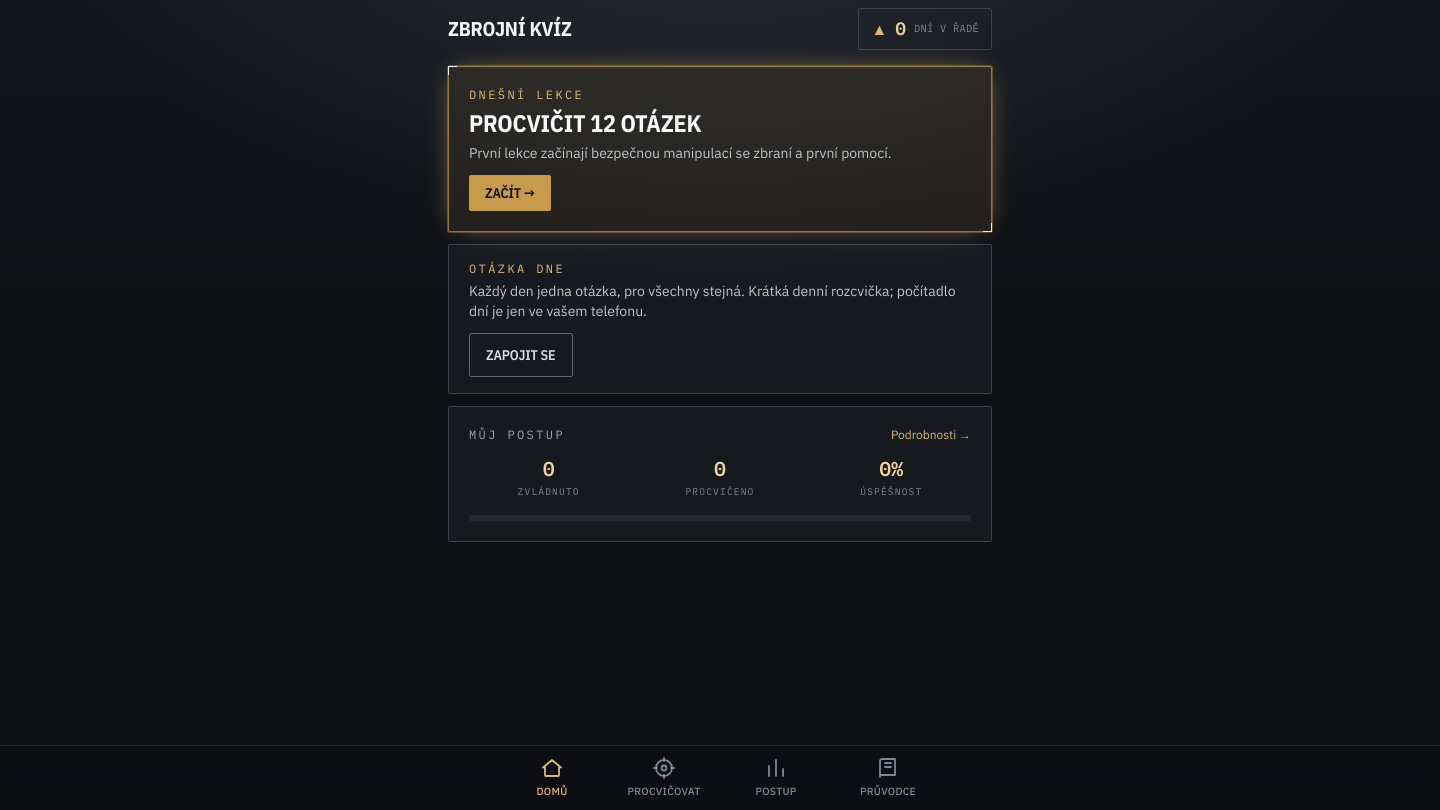
Test: Otázka dne on the home screen › can be switched off again
The image size is (1440, 810).
Step 1. Click the button "Zapojit se" → (521, 355), box [469,333,572,377]
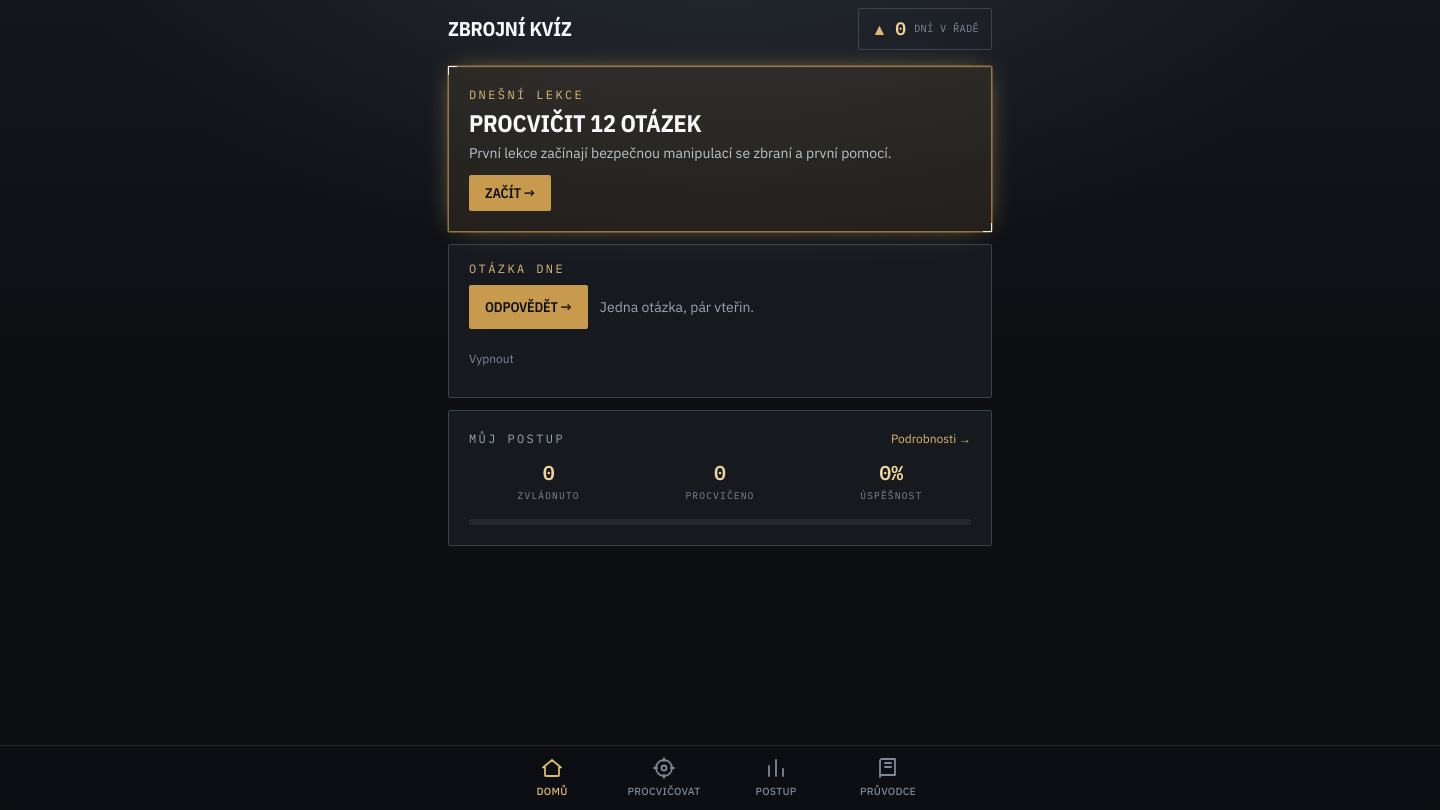
Step 2. Click the button "Vypnout" → (491, 359), box [469,337,514,381]
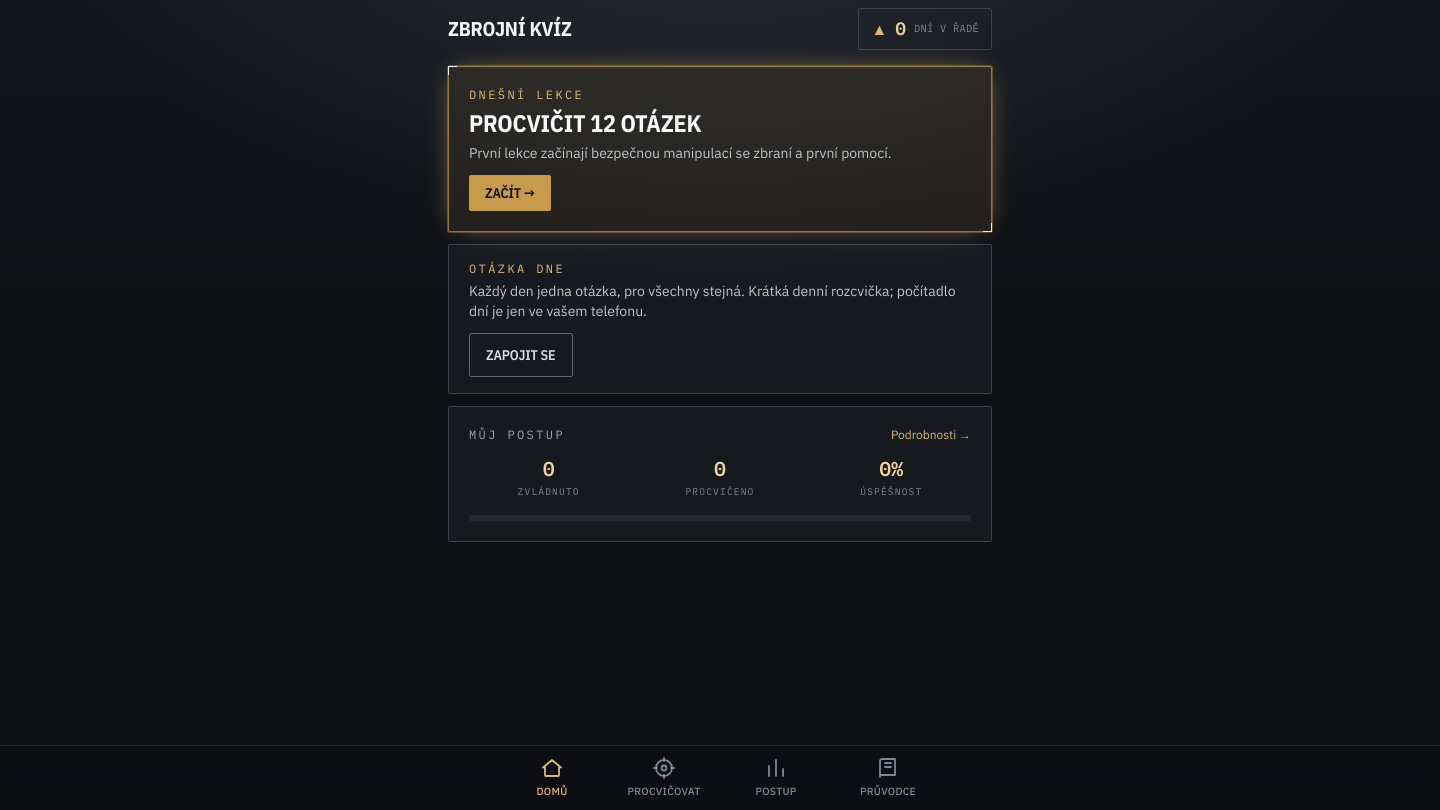
Result: the button "Zapojit se" is shown at [469,333,572,377]
